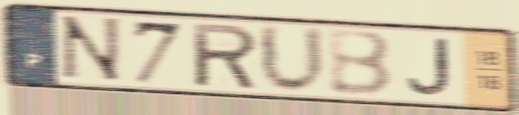7: (126, 18, 188, 85)
B: (324, 29, 395, 99)
J: (404, 36, 454, 98)
N: (56, 13, 126, 85)
R: (189, 20, 261, 92)
U: (256, 21, 331, 97)
